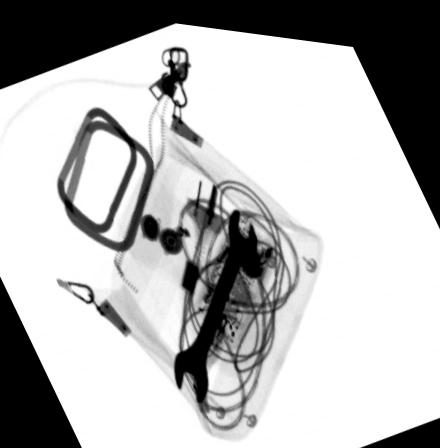Wrench: (172, 203, 258, 401)
